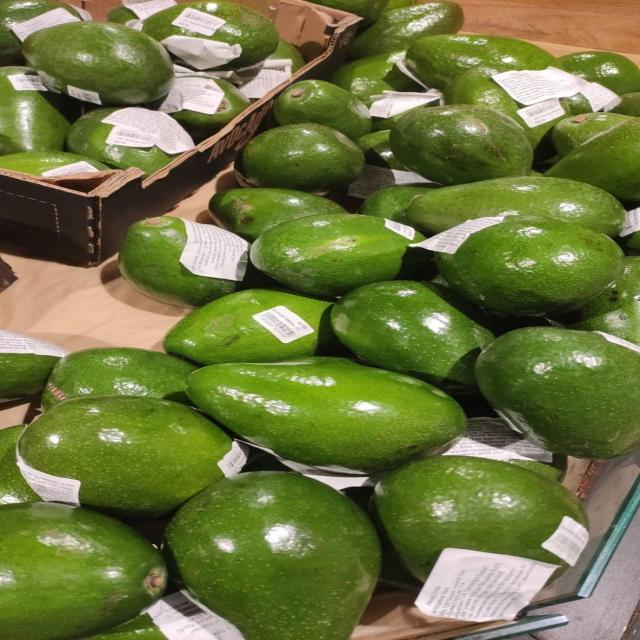avocado: (166, 472, 379, 639), (188, 357, 466, 475), (19, 396, 237, 518), (374, 456, 586, 580), (0, 503, 166, 639), (476, 327, 639, 458), (435, 216, 624, 315), (332, 281, 493, 392), (250, 214, 427, 296), (164, 289, 334, 365), (407, 177, 625, 236), (23, 22, 173, 105), (390, 105, 533, 185), (119, 217, 242, 307), (444, 396, 567, 480), (443, 67, 569, 148), (143, 0, 279, 69), (42, 348, 195, 409), (87, 579, 241, 639), (237, 123, 364, 191), (406, 34, 559, 89), (545, 119, 639, 201), (67, 108, 176, 175), (209, 188, 346, 241), (349, 0, 463, 58), (564, 257, 639, 344), (0, 67, 73, 156), (274, 80, 371, 140), (169, 75, 250, 142), (0, 0, 81, 65), (331, 51, 422, 105), (0, 331, 65, 402), (552, 113, 631, 157), (559, 51, 639, 94), (0, 425, 40, 505), (358, 186, 431, 226), (0, 151, 111, 176), (107, 0, 175, 30), (355, 130, 406, 170), (86, 614, 166, 639), (373, 102, 435, 132), (318, 0, 386, 26), (505, 456, 566, 481), (267, 40, 306, 73), (560, 93, 593, 115), (611, 92, 639, 116), (107, 5, 139, 24), (384, 0, 420, 12)
